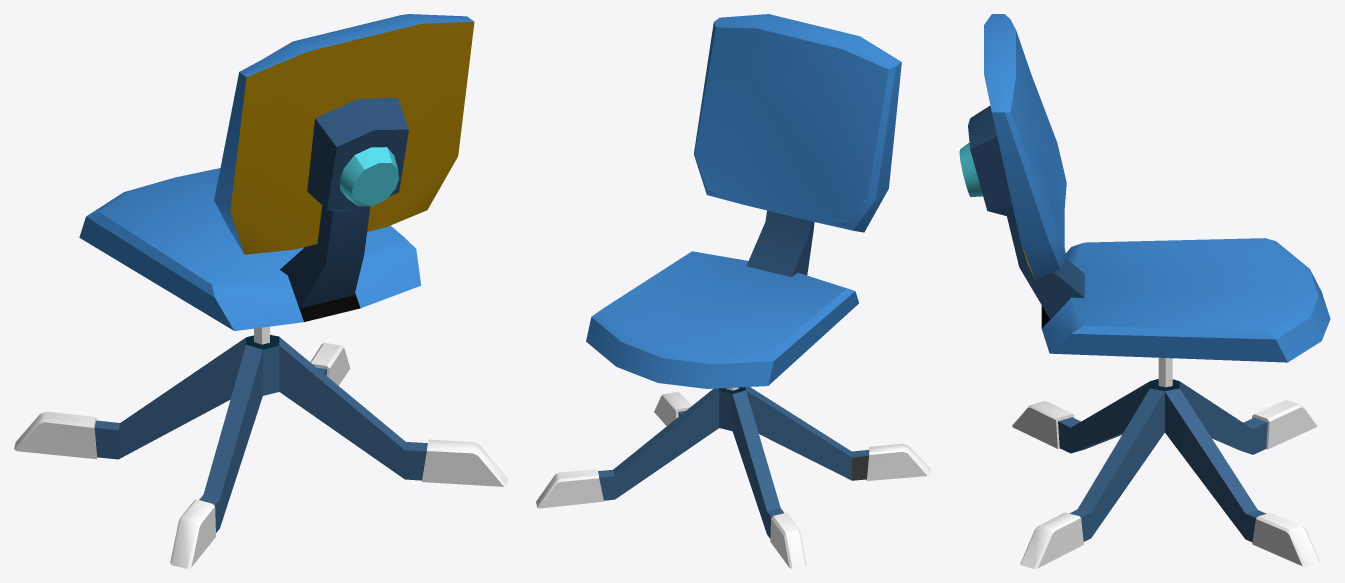
3 renders of one model, left to right at view 1: azimuth 30°, elevation 25°; view 2: azimuth 150°, elevation 25°; view 3: azimuth 270°, elevation 25°, orthographic. The views are drawn at different scales.
Parts seen in each view (by area): view 1: Joint_0_Object_0, Joint_0_Object_2, Joint_0_Object_4; view 2: Joint_0_Object_0, Joint_0_Object_2, Joint_0_Object_4; view 3: Joint_0_Object_0, Joint_0_Object_2, Joint_0_Object_4.
Boxes of the visible parts, x1,y1,x2,y2 form: Joint_0_Object_0: [79, 14, 474, 330]; Joint_0_Object_2: [94, 147, 427, 532]; Joint_0_Object_4: [14, 342, 507, 568]; Joint_0_Object_0: [586, 14, 901, 388]; Joint_0_Object_2: [598, 387, 868, 538]; Joint_0_Object_4: [536, 392, 930, 568]; Joint_0_Object_0: [968, 14, 1330, 362]; Joint_0_Object_2: [959, 142, 1267, 542]; Joint_0_Object_4: [1012, 400, 1319, 568].
Size of the model in its own units: 1378 by 1945 by 1468.
